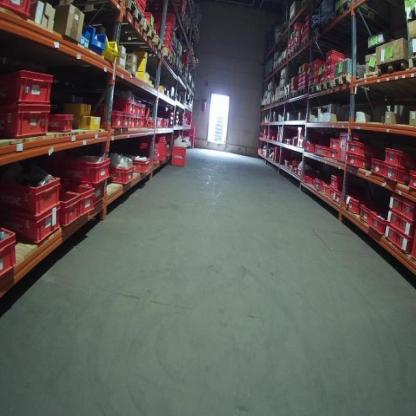pallet: (125, 0, 143, 30), (143, 18, 156, 45), (333, 73, 352, 89), (163, 47, 173, 66), (320, 80, 333, 91), (156, 35, 163, 55), (408, 54, 416, 70), (302, 34, 311, 48), (308, 84, 319, 95), (297, 86, 308, 96), (293, 43, 301, 55), (290, 89, 297, 99), (176, 51, 181, 62), (284, 94, 290, 101), (279, 97, 284, 103), (282, 58, 286, 65), (278, 62, 282, 69), (273, 67, 277, 73)
small_load_carrier: (1, 169, 63, 219), (4, 202, 64, 247), (1, 101, 53, 143), (6, 66, 57, 105), (58, 157, 111, 185), (63, 180, 96, 223), (52, 192, 82, 232), (1, 223, 23, 277), (90, 105, 124, 131), (335, 132, 362, 162), (2, 1, 35, 23), (381, 147, 415, 168), (110, 160, 136, 187), (46, 110, 75, 132), (346, 139, 377, 158), (346, 150, 373, 171), (89, 177, 109, 205), (382, 161, 405, 184), (368, 212, 389, 235), (395, 231, 414, 253), (345, 192, 364, 212), (133, 156, 152, 175), (399, 213, 414, 237), (386, 193, 402, 215), (172, 144, 188, 166), (384, 223, 400, 244), (328, 171, 343, 190), (401, 198, 415, 218), (386, 209, 399, 230), (115, 97, 134, 111), (362, 205, 376, 223), (371, 159, 385, 177), (324, 52, 349, 62), (405, 170, 415, 192), (328, 135, 342, 150), (316, 144, 328, 160), (325, 61, 343, 71), (325, 187, 337, 201), (329, 148, 341, 161), (325, 70, 337, 82), (334, 189, 344, 203), (323, 184, 331, 196)
